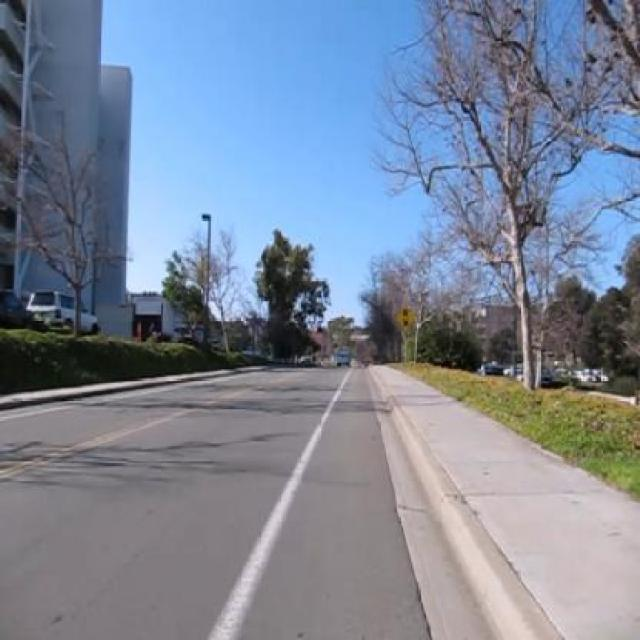signalAhead: (394, 305, 416, 332)
